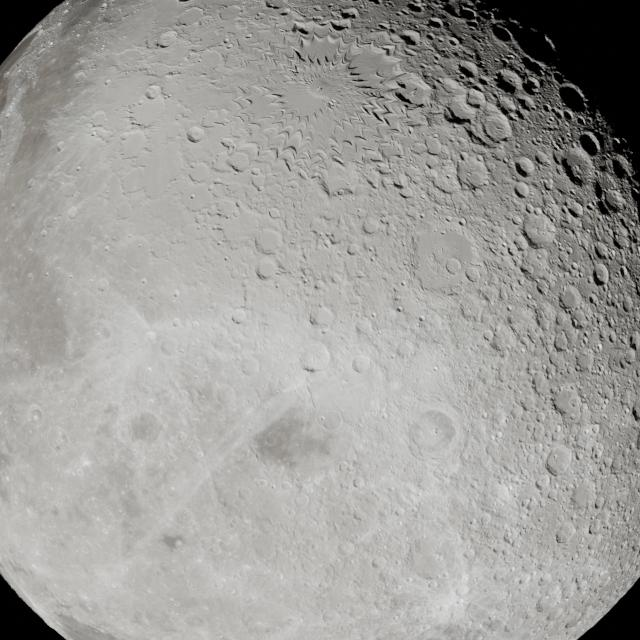crater: (404, 538, 454, 585), (408, 409, 456, 455), (521, 208, 559, 250), (456, 154, 496, 193), (134, 359, 169, 397), (249, 530, 283, 564), (445, 90, 480, 122), (131, 412, 162, 444), (482, 112, 514, 143), (300, 342, 330, 372), (552, 387, 582, 416), (120, 130, 150, 159), (546, 445, 574, 476), (394, 85, 428, 109), (558, 82, 586, 111), (568, 480, 595, 510), (255, 227, 283, 255), (170, 507, 198, 535), (563, 146, 591, 174), (525, 252, 553, 280), (487, 23, 519, 47), (459, 295, 487, 322), (520, 52, 548, 78), (226, 151, 252, 175), (186, 160, 212, 184), (608, 346, 632, 372), (577, 131, 601, 157), (446, 18, 474, 40), (319, 408, 343, 433), (498, 68, 523, 92), (215, 383, 238, 409), (198, 48, 224, 70), (176, 7, 206, 26), (497, 94, 522, 116), (256, 257, 279, 280), (560, 285, 582, 309), (612, 154, 632, 180), (311, 306, 335, 327), (577, 276, 598, 300), (605, 188, 626, 210), (556, 522, 576, 543), (458, 60, 480, 79), (398, 29, 422, 46), (352, 354, 372, 374), (514, 156, 534, 176), (521, 74, 541, 94), (465, 88, 486, 107), (592, 263, 610, 285), (157, 30, 178, 48), (26, 404, 44, 424), (186, 125, 206, 143), (114, 201, 133, 219), (576, 351, 594, 370), (362, 217, 382, 234), (240, 358, 258, 376), (516, 94, 536, 110), (445, 258, 462, 275), (160, 339, 177, 356), (514, 181, 531, 198), (568, 200, 584, 218), (553, 332, 569, 350), (459, 5, 478, 20), (534, 473, 550, 490), (621, 294, 635, 313), (339, 540, 355, 556), (231, 308, 247, 324), (340, 7, 359, 20), (145, 85, 161, 100), (427, 17, 444, 30), (371, 556, 386, 570), (445, 36, 461, 49), (562, 108, 576, 122), (408, 1, 424, 13), (96, 278, 109, 292), (352, 476, 366, 489), (144, 331, 158, 344), (589, 520, 602, 534), (98, 326, 111, 340), (66, 207, 78, 220), (347, 243, 359, 255), (176, 430, 188, 442), (257, 478, 269, 489), (268, 208, 280, 219), (575, 115, 586, 126)
rock: (162, 534, 185, 550), (55, 140, 66, 152), (590, 423, 600, 435), (172, 289, 181, 299), (635, 404, 640, 421), (40, 228, 48, 238), (104, 78, 112, 86), (418, 315, 426, 322), (141, 277, 147, 285), (396, 306, 403, 312)
